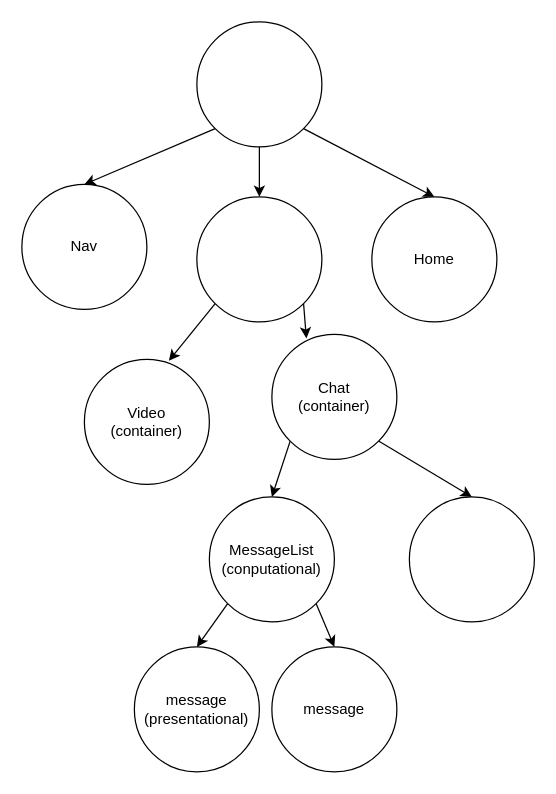
The diagram is 556 pixels wide and 794 high, and some of its shapes have lost their labels. The centre of each missing label's shape, as x and y in pixels:
"App" goes at [259,84].
"Channel (Page)" goes at [259,259].
"ChatForm (presentational)" goes at [471,559].
